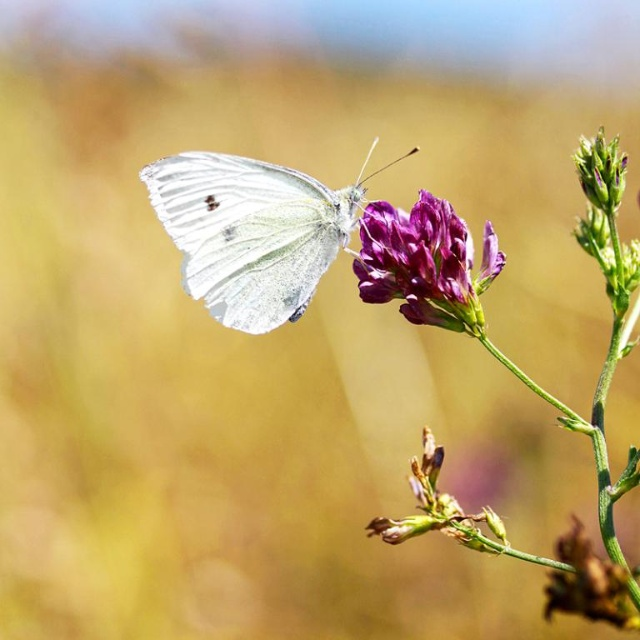Butterfly: (135, 132, 426, 340)
